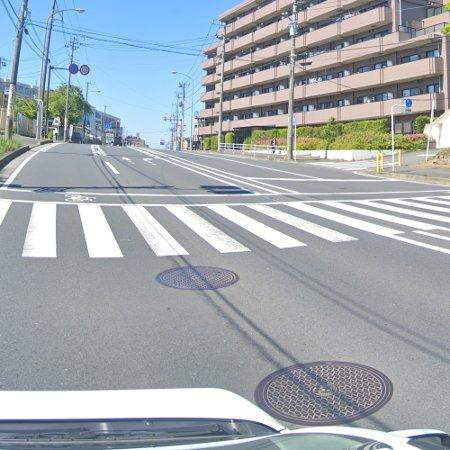crosswalks: (0, 190, 450, 260)
